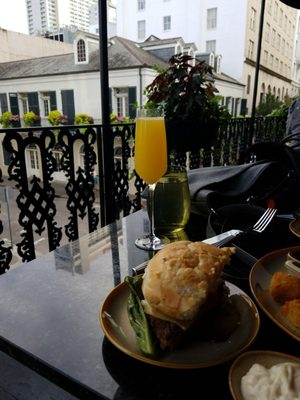burger: (206, 208, 277, 250), (250, 208, 277, 233)
pizza: (152, 173, 192, 239)
sushi: (228, 350, 300, 400)
